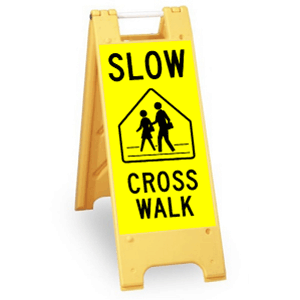slow: (117, 86, 198, 163)
